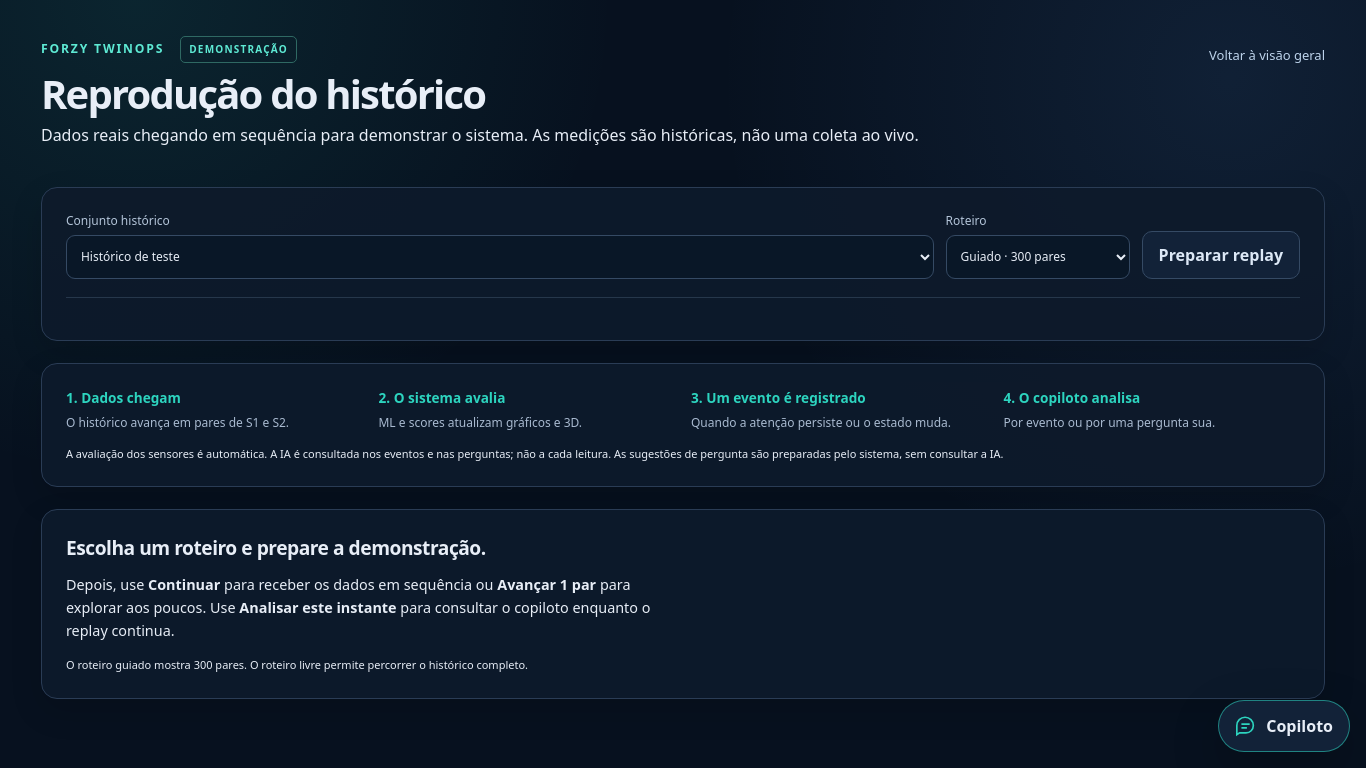
does not mark a server answer as older when its reading is ahead or unchanged: {"sourceRow":142,"contextRevision":2}
Click the button "Preparar replay" at [1221, 255], box [1142, 231, 1300, 279]
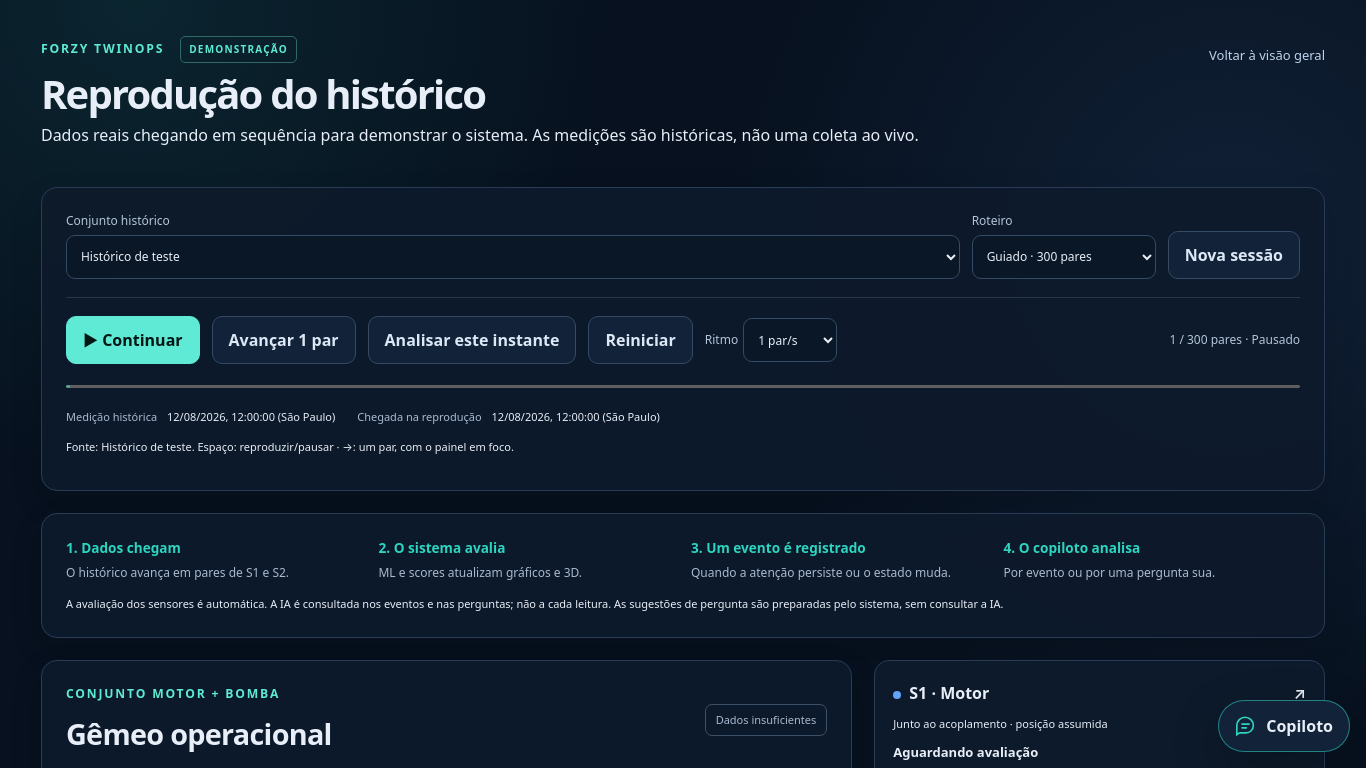
Expected: the button "Avançar 1 par" is shown, [212, 316, 356, 364]
Click the button "Analisar este instante" at [472, 340], box [368, 316, 576, 364]
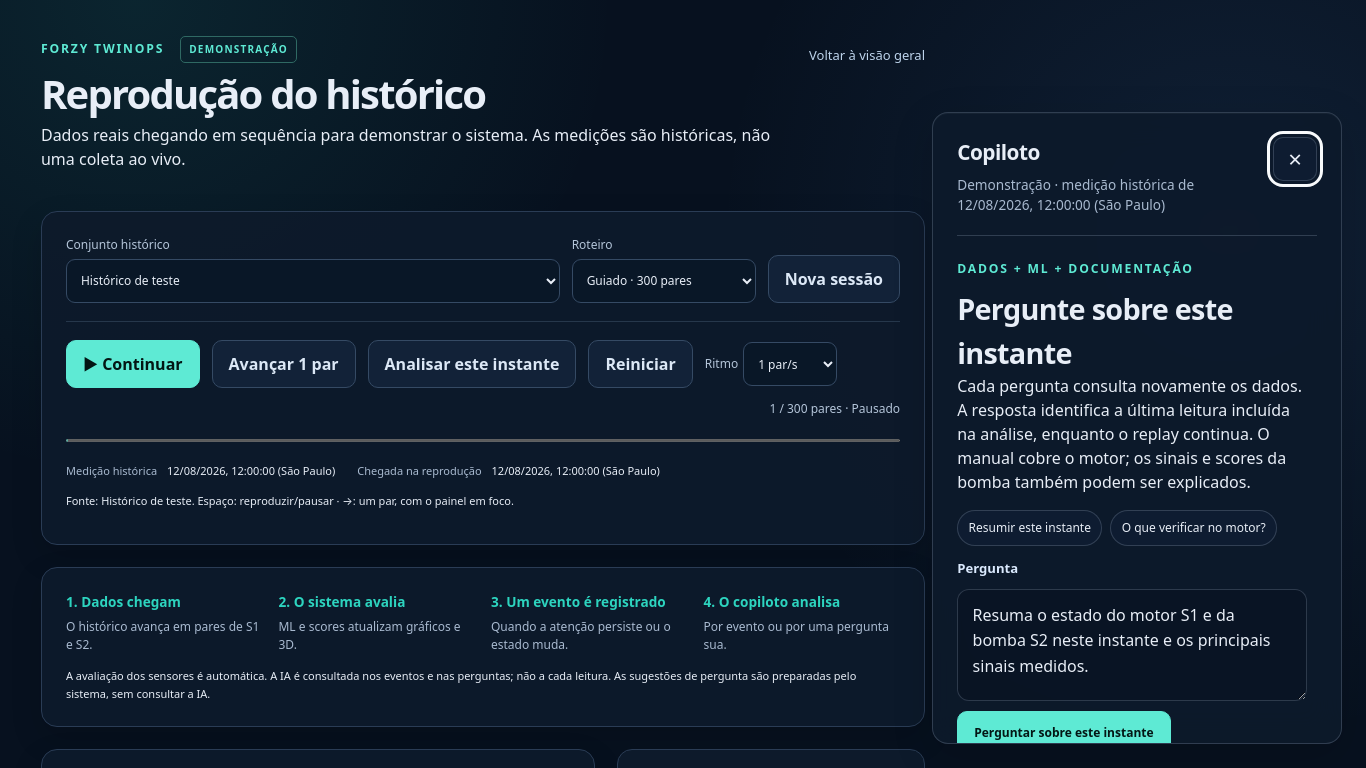
Click the button "Resumir este instante" at [1030, 528], box [957, 510, 1102, 546]
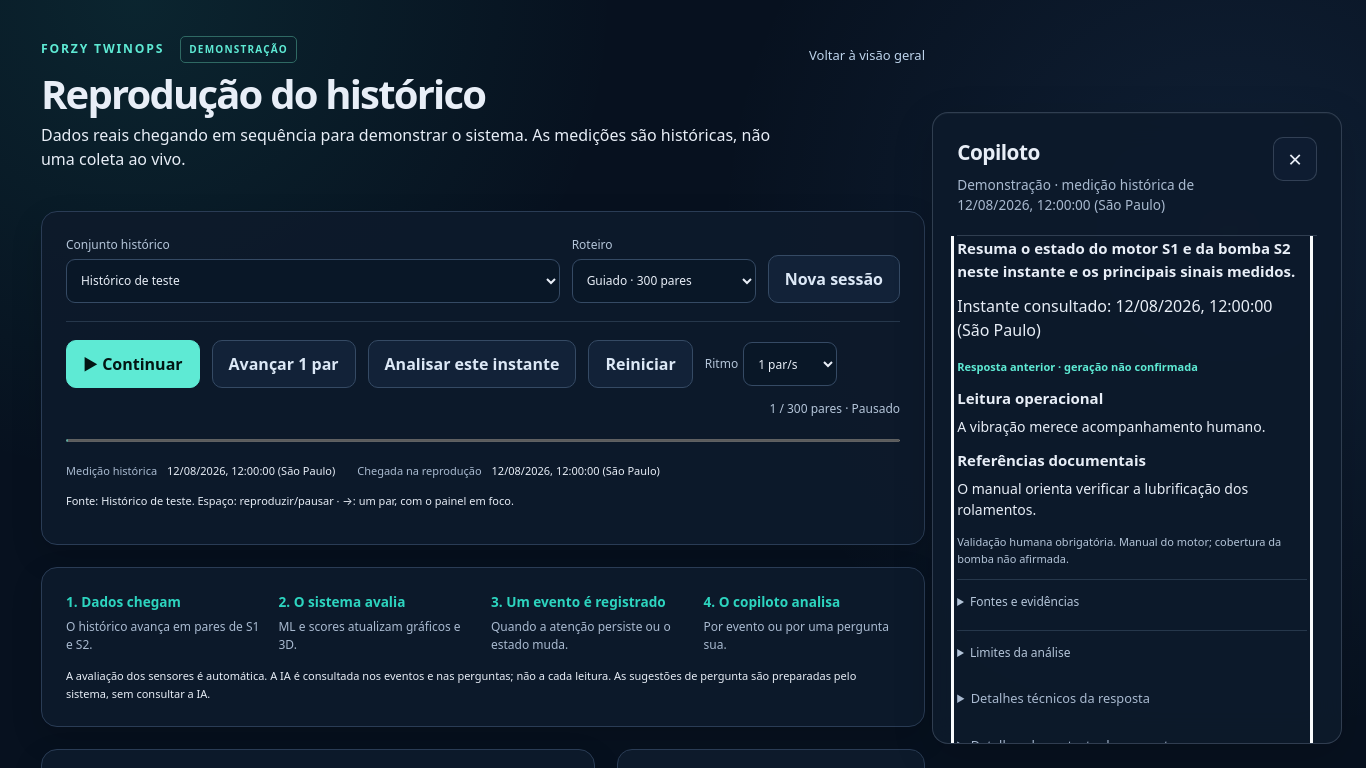
Result: the text "Instante consultado: 12/08/2026, 12:00:00 (São Paulo)" is shown at [957, 294, 1307, 342]
